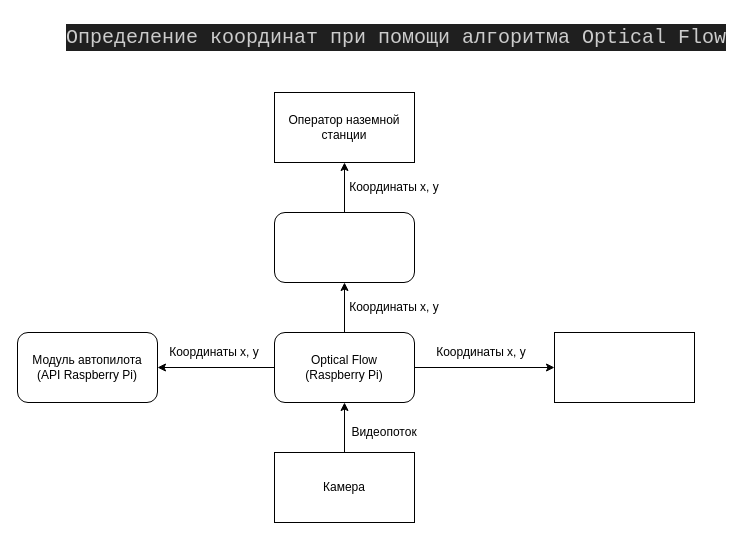
Image size: 744x540. Some labels were removed from this diagram. The shapes that lost their labels are listed below. From the top down, each one's box as (x1, y1, x2, y2) in pixels, then its label:
(274, 212, 414, 282): Модуль подключения к дрону (Web интерфейс React)
(554, 332, 694, 402): Полетный контроллер
